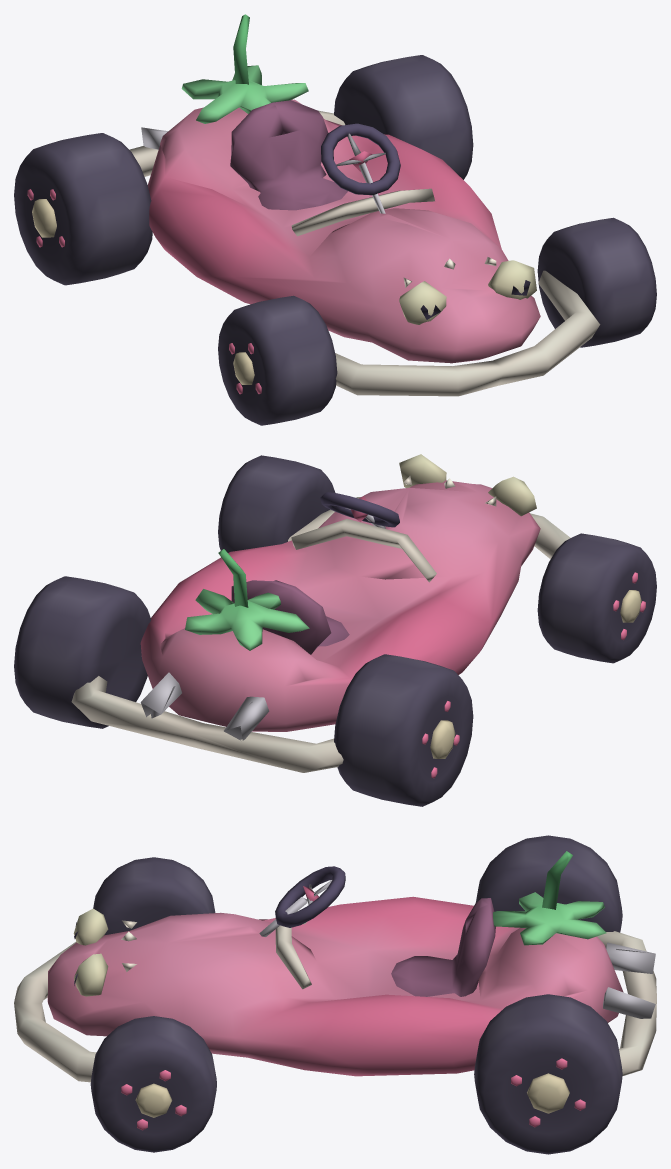
The model's file is veh_kart_berry_lite.glb.
3 renders of one model, top to bottom at view 1: azimuth 30°, elevation 25°; view 2: azimuth 150°, elevation 25°; view 3: azimuth 270°, elevation 25°, orthographic.
Parts seen in each view (by area): view 1: SM_veh_kart_berry_lite_body_gloss, SM_veh_kart_berry_lite_wheel_rr, SM_veh_kart_berry_lite_body, SM_veh_kart_berry_lite_wheel_fr, SM_veh_kart_berry_lite_wheel_fl, SM_veh_kart_berry_lite_wheel_rl, SM_veh_kart_berry_lite_steer, SM_veh_kart_berry_lite_wheel_rr_gloss; view 2: SM_veh_kart_berry_lite_body_gloss, SM_veh_kart_berry_lite_wheel_rr, SM_veh_kart_berry_lite_wheel_rl, SM_veh_kart_berry_lite_wheel_fr, SM_veh_kart_berry_lite_wheel_fl, SM_veh_kart_berry_lite_body, SM_veh_kart_berry_lite_steer, SM_veh_kart_berry_lite_wheel_rr_gloss, SM_veh_kart_berry_lite_wheel_fr_gloss; view 3: SM_veh_kart_berry_lite_body_gloss, SM_veh_kart_berry_lite_wheel_rl, SM_veh_kart_berry_lite_wheel_fl, SM_veh_kart_berry_lite_body, SM_veh_kart_berry_lite_wheel_rr, SM_veh_kart_berry_lite_wheel_fr, SM_veh_kart_berry_lite_steer, SM_veh_kart_berry_lite_wheel_rl_gloss, SM_veh_kart_berry_lite_wheel_fl_gloss.
Part boxes in pixels (x1,y1,x2,y2): SM_veh_kart_berry_lite_body_gloss: (129,99,600,396); SM_veh_kart_berry_lite_wheel_rr: (14,133,152,285); SM_veh_kart_berry_lite_body: (181,14,496,287); SM_veh_kart_berry_lite_wheel_fr: (218,295,337,425); SM_veh_kart_berry_lite_wheel_fl: (537,217,656,347); SM_veh_kart_berry_lite_wheel_rl: (334,55,473,179); SM_veh_kart_berry_lite_steer: (321,123,400,195); SM_veh_kart_berry_lite_wheel_rr_gloss: (32,199,56,237); SM_veh_kart_berry_lite_body_gloss: (71,454,570,772); SM_veh_kart_berry_lite_wheel_rr: (334,654,473,806); SM_veh_kart_berry_lite_wheel_rl: (14,576,151,728); SM_veh_kart_berry_lite_wheel_fr: (537,533,656,663); SM_veh_kart_berry_lite_wheel_fl: (218,455,335,552); SM_veh_kart_berry_lite_body: (185,475,496,654); SM_veh_kart_berry_lite_steer: (320,492,399,527); SM_veh_kart_berry_lite_wheel_rr_gloss: (430,720,455,758); SM_veh_kart_berry_lite_wheel_fr_gloss: (620,590,641,622); SM_veh_kart_berry_lite_body_gloss: (14,896,656,1082); SM_veh_kart_berry_lite_wheel_rl: (474,994,622,1154); SM_veh_kart_berry_lite_wheel_fl: (90,1016,216,1152); SM_veh_kart_berry_lite_body: (121,851,606,996); SM_veh_kart_berry_lite_wheel_rr: (475,835,622,932); SM_veh_kart_berry_lite_wheel_fr: (93,857,215,935); SM_veh_kart_berry_lite_steer: (275,866,345,927); SM_veh_kart_berry_lite_wheel_rl_gloss: (527,1073,569,1113); SM_veh_kart_berry_lite_wheel_fl_gloss: (135,1083,172,1117).
Size of the model in its own units: 1.54 by 0.7639 by 2.05.
